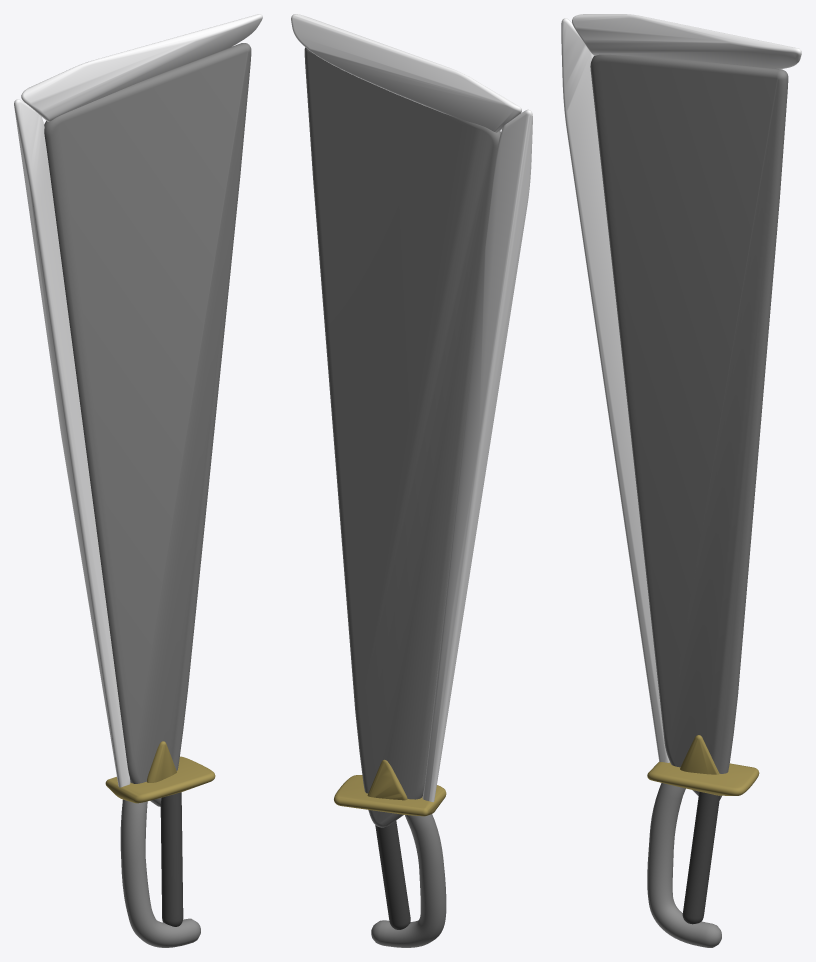
The model's file is MYASSETsword.fbx.
The picture shows the model from 3 angles, left to right: view 1: azimuth 30°, elevation 25°; view 2: azimuth 150°, elevation 25°; view 3: azimuth 330°, elevation 25°; orthographic projection.
Parts seen in each view (by area): view 1: s.0012, s.0020, s.0021, s.0010, p.0007, s.0003, s.0022; view 2: s.0012, s.0020, s.0021, s.0010, p.0007, s.0003, s.0024; view 3: s.0012, s.0020, s.0021, s.0010, p.0007, s.0003, s.0022.
Part boxes in pixels (x1,y1,x2,y2): s.0012: (44,43,251,806); s.0020: (14,99,130,787); s.0021: (21,14,262,121); s.0010: (120,799,200,947); p.0007: (160,792,183,926); s.0003: (105,756,215,803); s.0022: (147,741,176,782); s.0012: (304,47,500,827); s.0020: (422,109,532,802); s.0021: (291,14,521,132); s.0010: (371,814,446,947); p.0007: (375,821,410,929); s.0003: (334,775,446,816); s.0024: (367,759,407,800); s.0012: (590,54,788,799); s.0020: (561,18,669,762); s.0021: (572,14,801,69); s.0010: (647,783,721,947); p.0007: (682,791,719,924); s.0003: (647,761,759,795); s.0022: (680,735,719,774).
Size of the model in its own units: 42.47 by 11.41 by 151.
